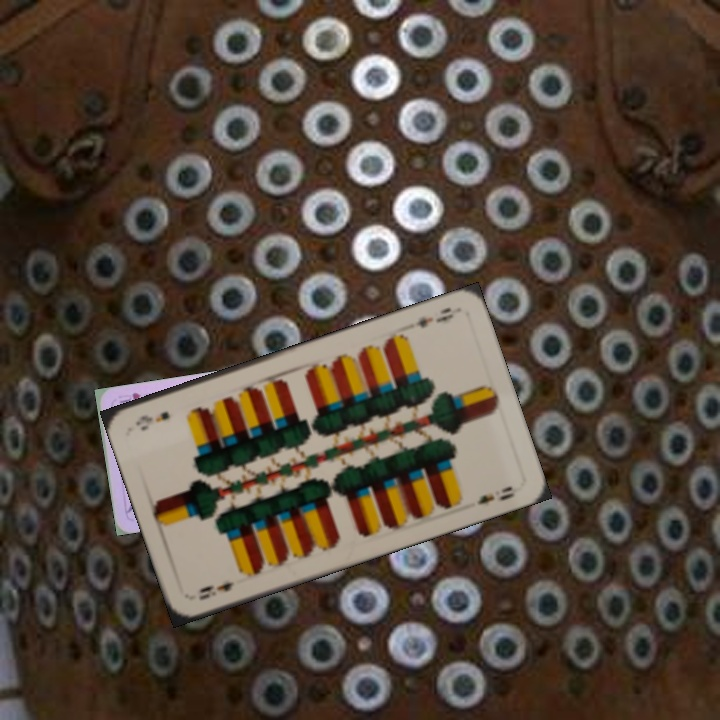E9: (412, 303, 457, 331), (194, 577, 237, 603)
